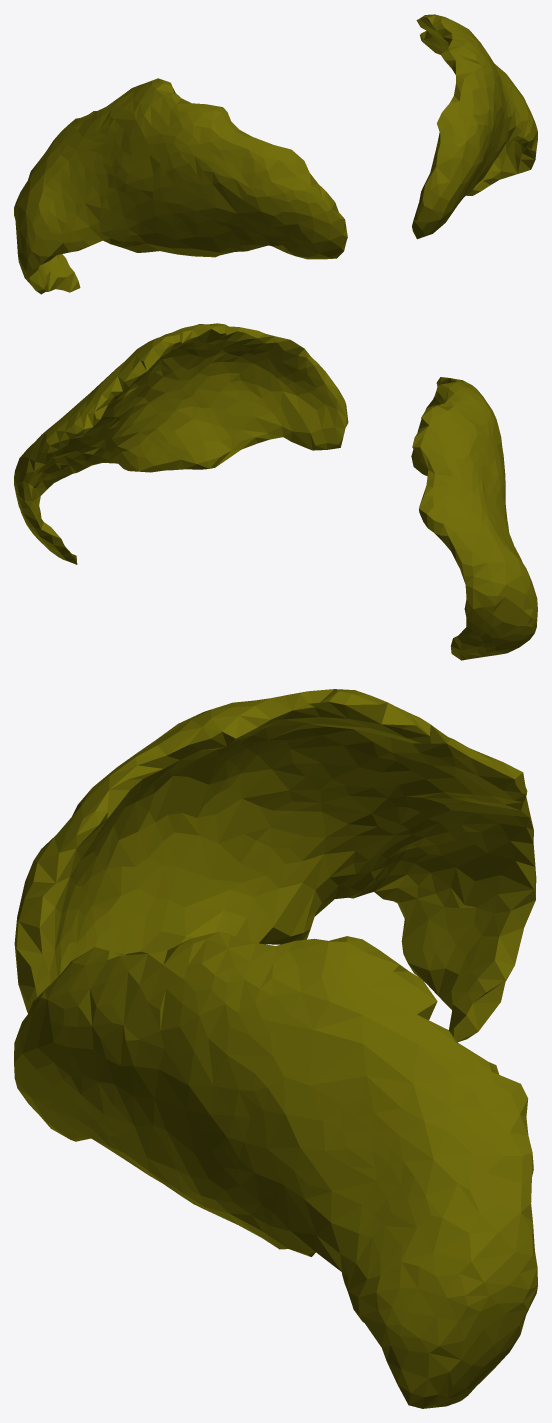
Rendered from 81-R-reticular thalamic nucleus-('0.4980', '0.4784', '0.0000').obj.
The picture shows the model from 3 angles, top to bottom: view 1: azimuth 30°, elevation 25°; view 2: azimuth 150°, elevation 25°; view 3: azimuth 270°, elevation 25°; orthographic projection. The views are drawn at different scales.
Size of the model in its own units: 195 by 78.65 by 92.56.
